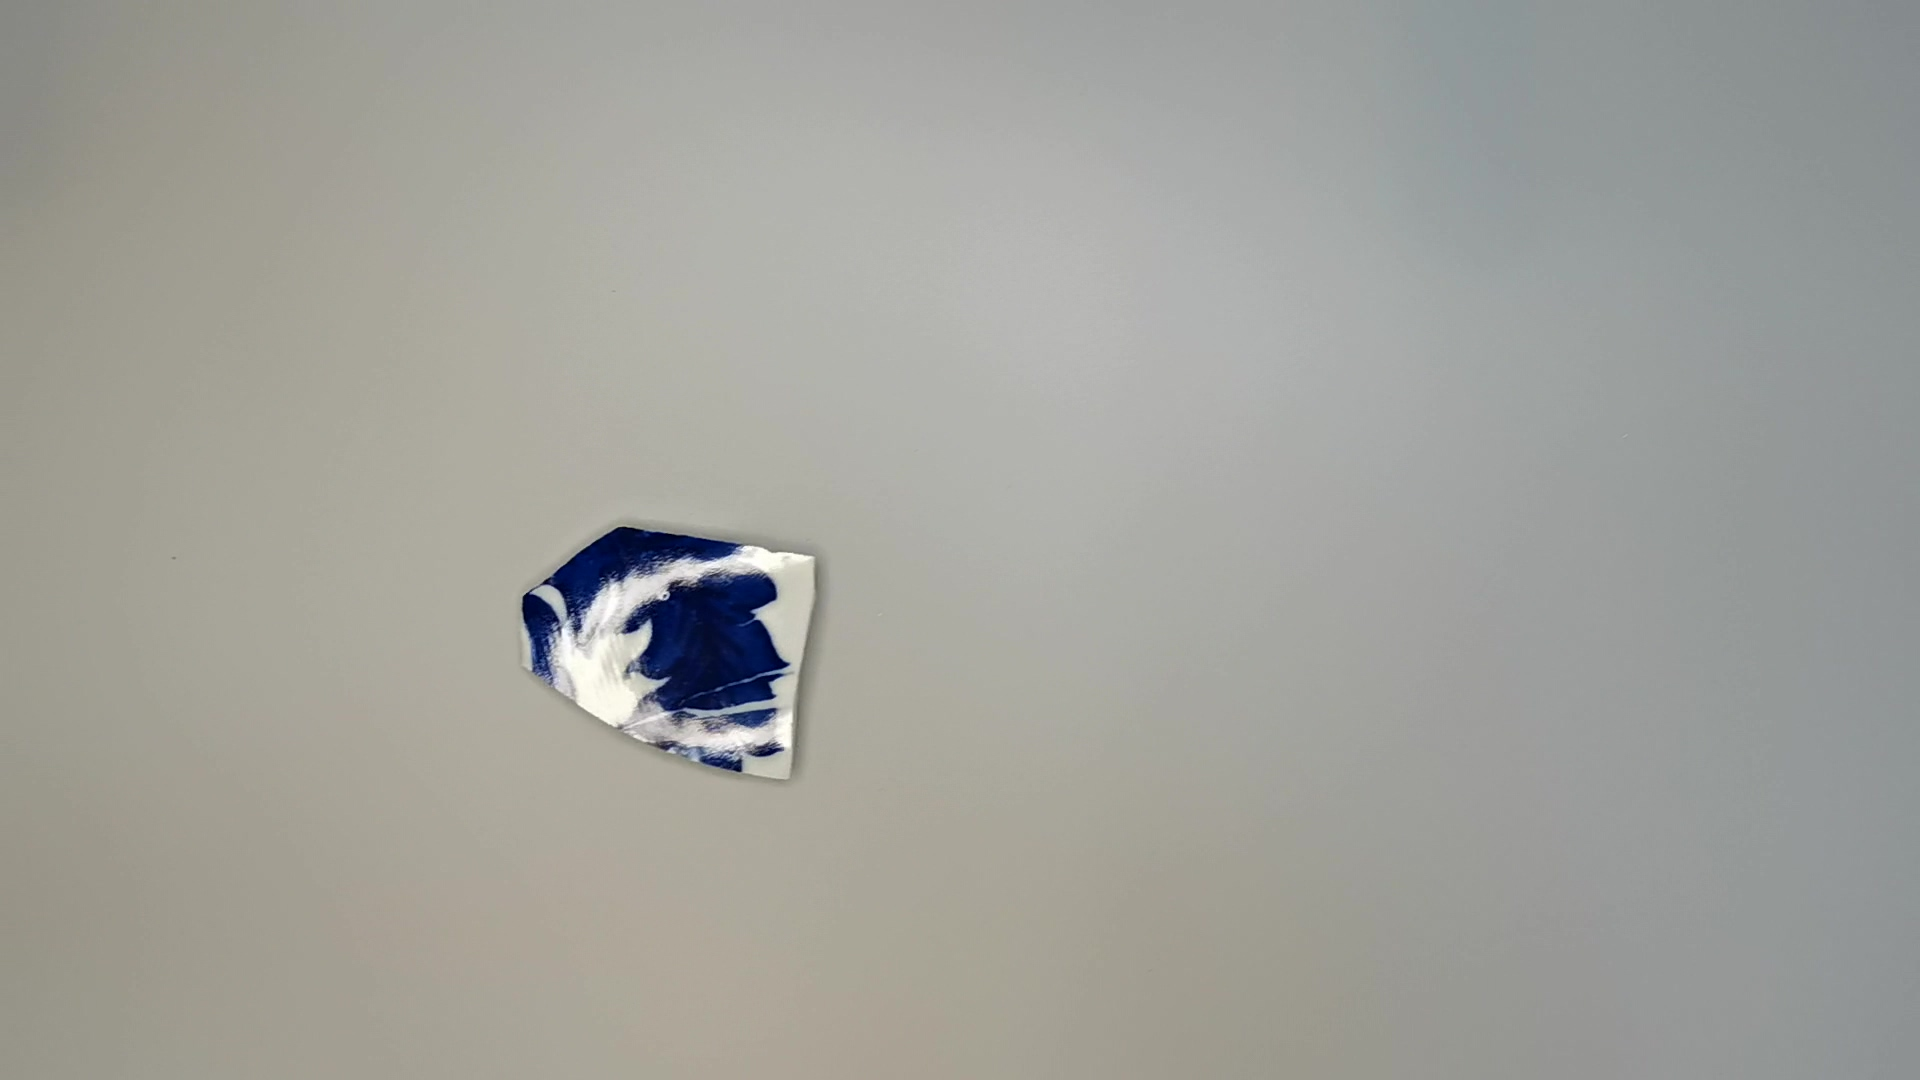ceramic: (517, 520, 841, 798)
